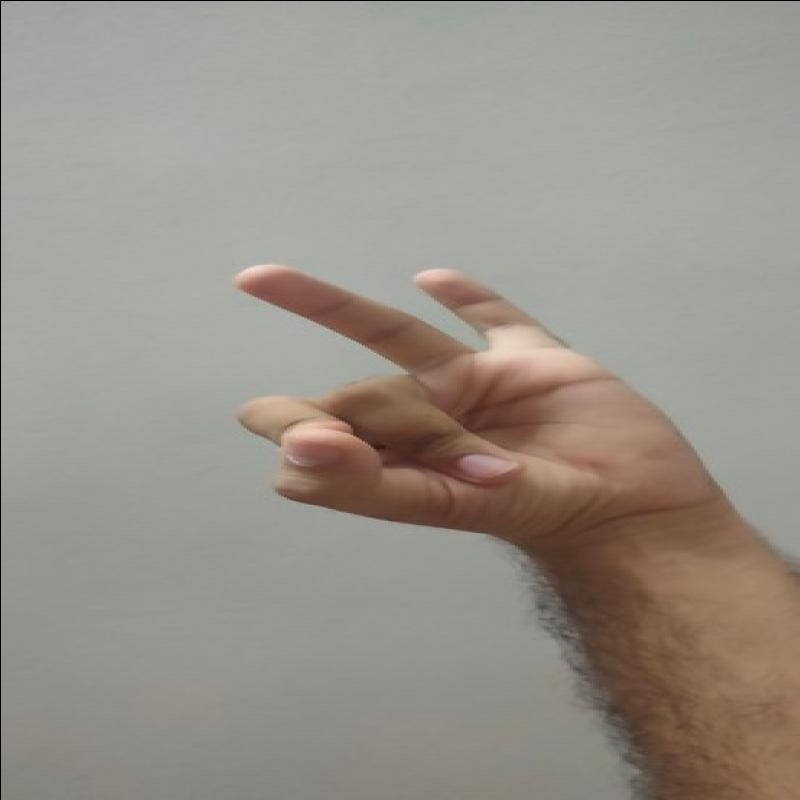Katakam: (221, 246, 716, 566)
